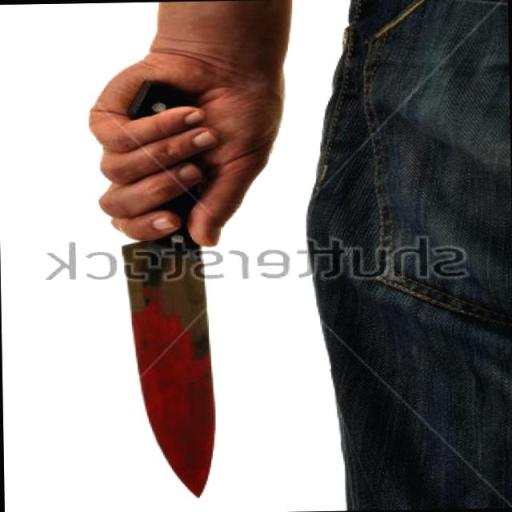knife: (88, 140, 254, 508)
